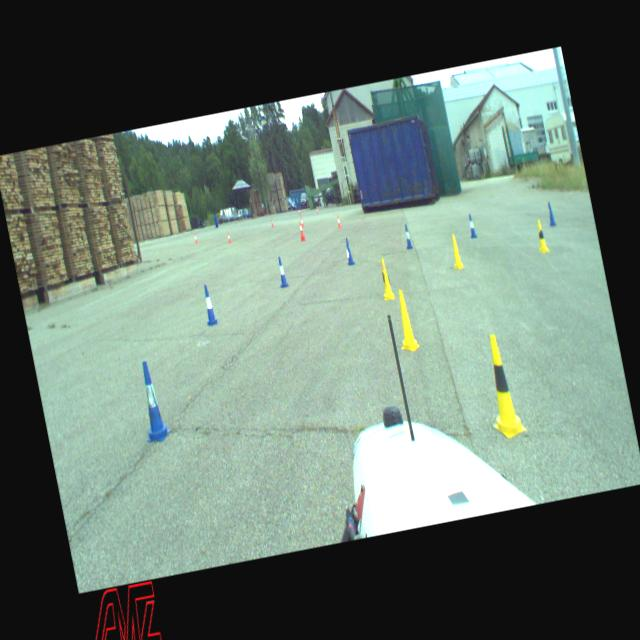blue_cone: (132, 359, 172, 444), (200, 284, 218, 326), (275, 255, 290, 288), (344, 237, 356, 266), (402, 223, 414, 250), (467, 213, 478, 239), (546, 201, 556, 227)
orange_cone: (298, 221, 305, 238), (336, 214, 342, 228), (226, 231, 232, 244), (194, 232, 198, 244), (300, 216, 304, 228), (270, 218, 274, 228), (315, 206, 319, 215), (298, 208, 302, 216)
yellow_cone: (477, 332, 527, 440), (390, 288, 420, 352), (376, 256, 396, 300), (448, 233, 464, 270), (534, 218, 550, 254)
